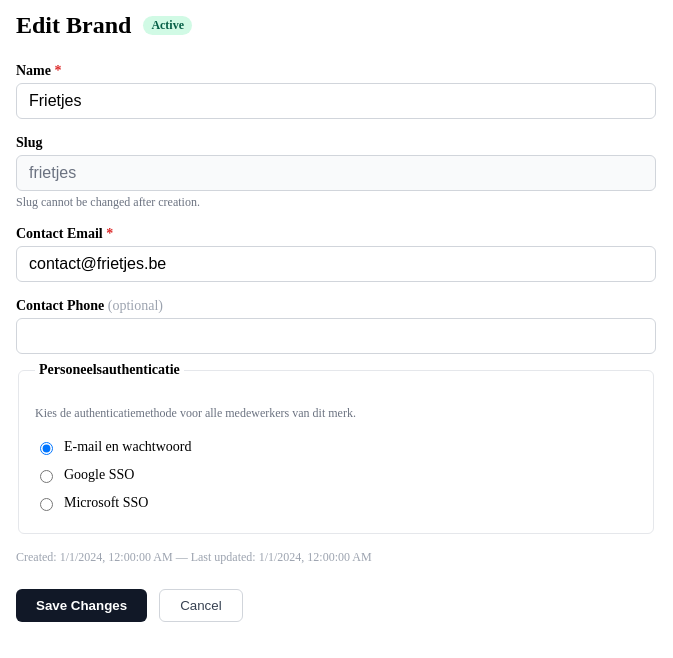
Test: BrandEdit › shows a validation error when name is cleared
Clear the field labelled "Name *" at (336, 101), box [16, 83, 656, 119]
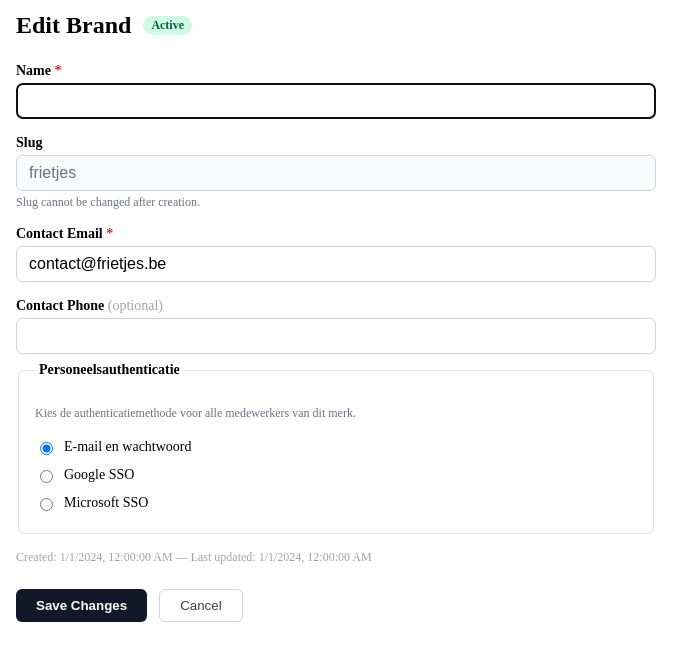
Click the button "Save Changes".
click(82, 606)  # box [16, 589, 147, 622]
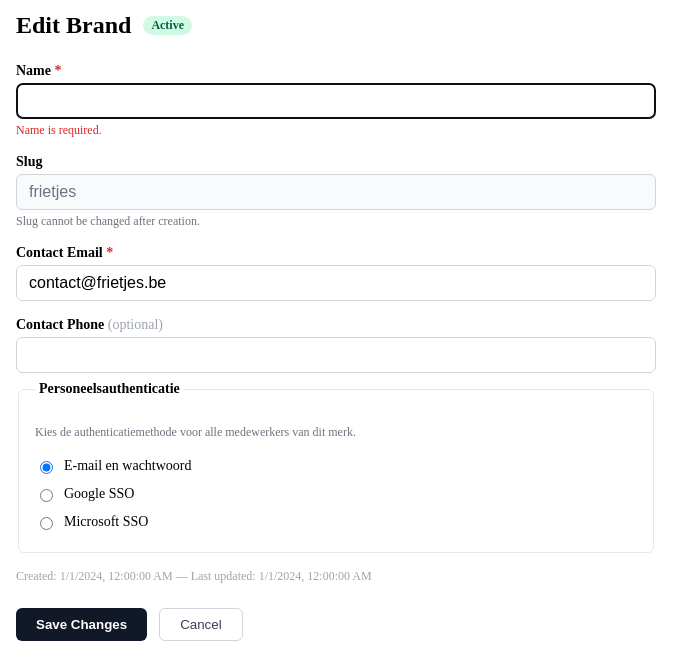
expect the text "Name is required." is shown: met, box [16, 123, 102, 137]
